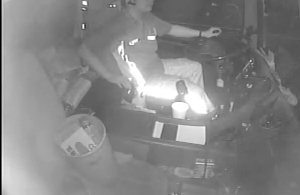cup: (169, 101, 189, 119)
